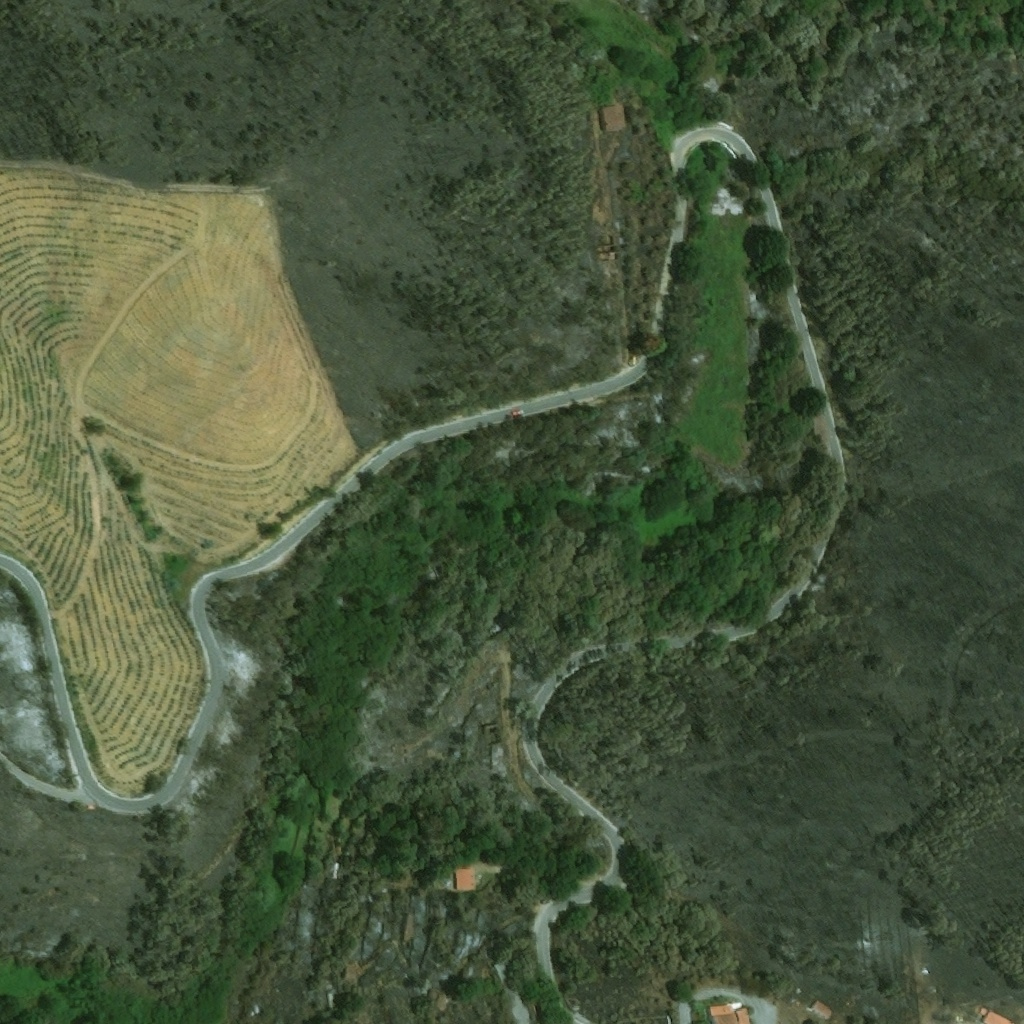0 no-damage: (597, 104, 628, 132), (706, 1004, 750, 1023), (979, 1007, 1014, 1023), (808, 1000, 833, 1021), (455, 869, 475, 891), (432, 994, 450, 1014), (343, 968, 358, 985)
3 destroyed: (594, 244, 619, 260)
